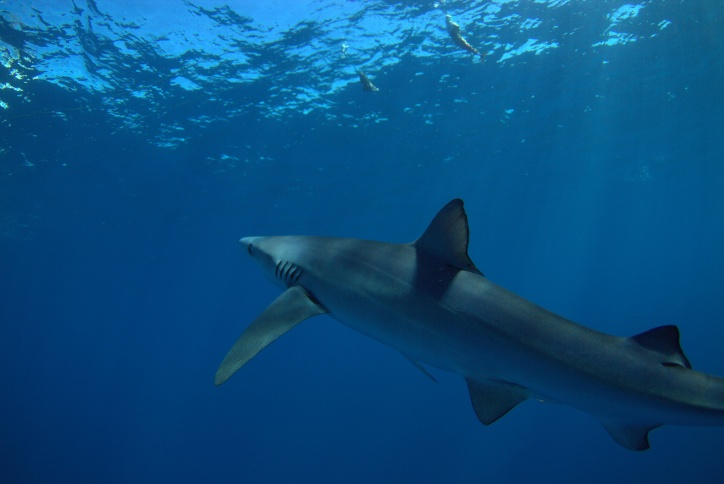Azul: (132, 177, 724, 476)
